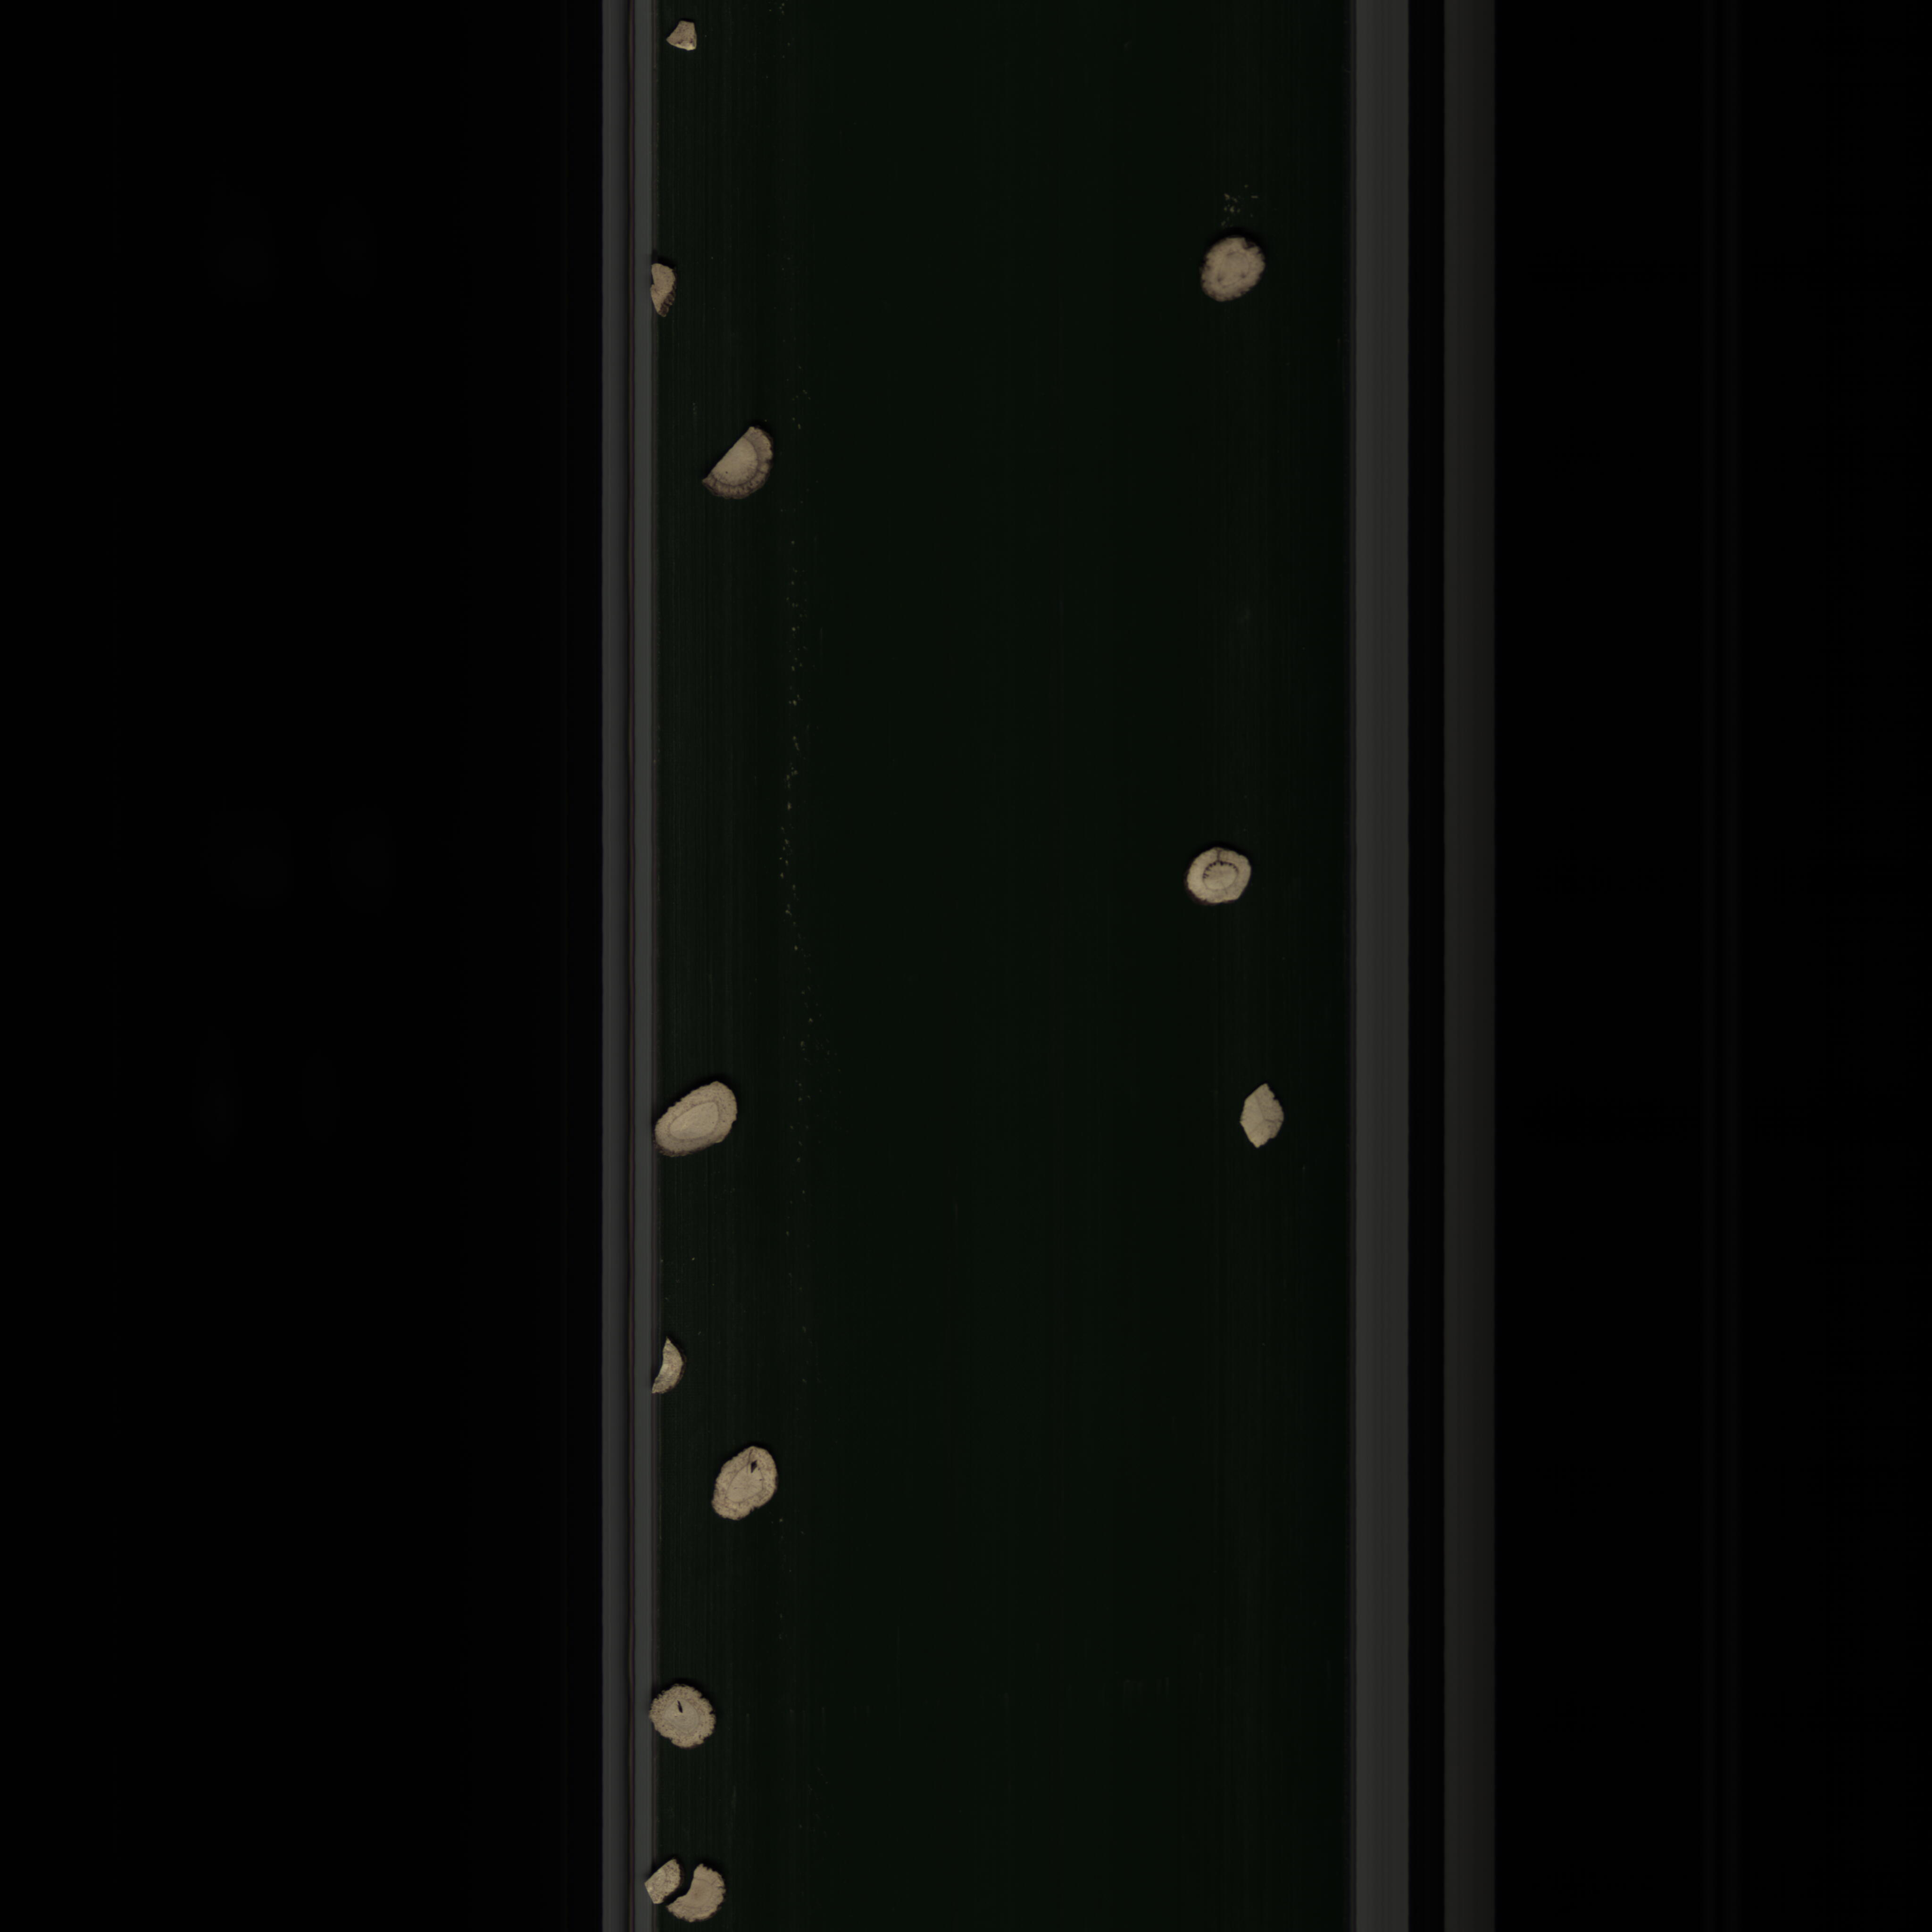debris: (633, 1838, 738, 1928), (1223, 1079, 1290, 1159), (648, 1336, 690, 1408), (640, 257, 686, 322), (662, 16, 708, 57)
distortion: (1194, 228, 1261, 322)
hole: (697, 1437, 780, 1522), (646, 1674, 720, 1757)
moldy: (686, 416, 784, 504)
